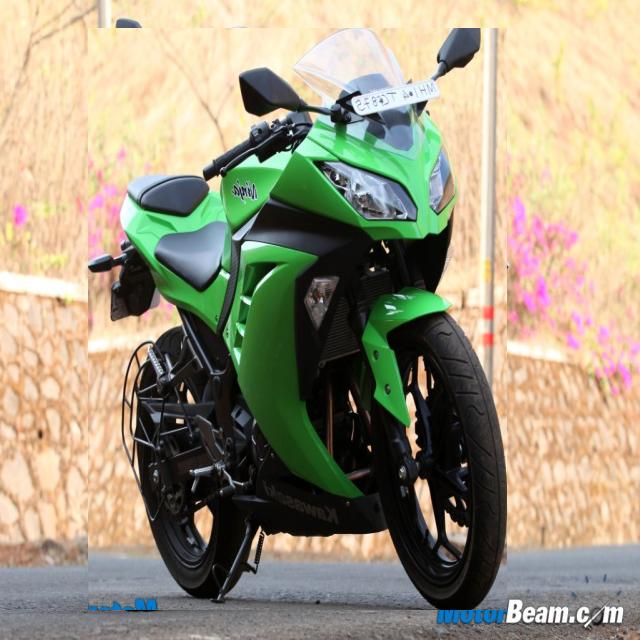motorcycle: (89, 28, 507, 610)
